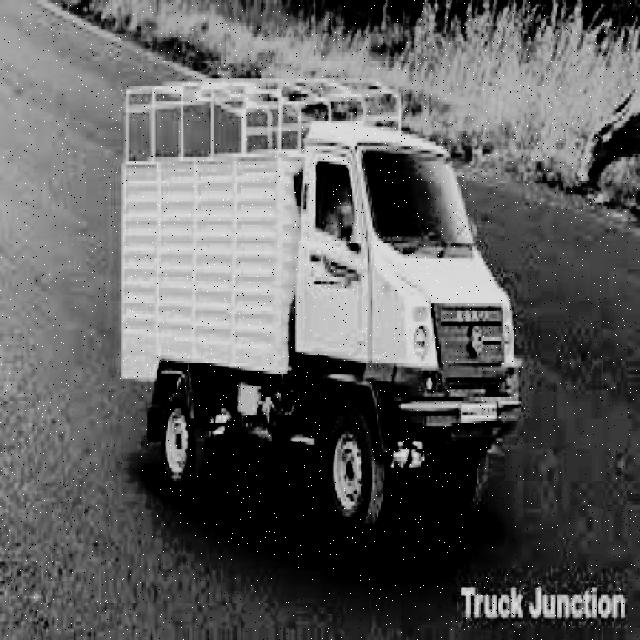LCV: (122, 75, 496, 521)
